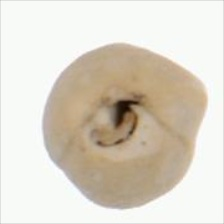L3: (81, 90, 143, 149)
L4: (41, 42, 207, 209)
